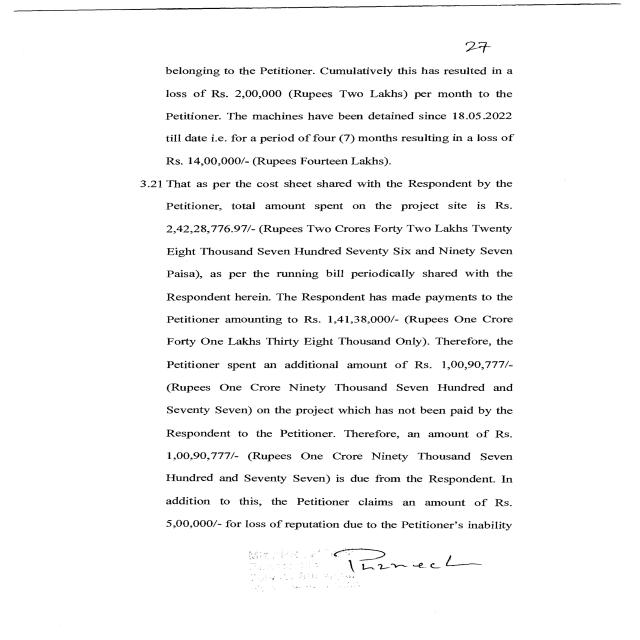page-number: (415, 0, 640, 62)
